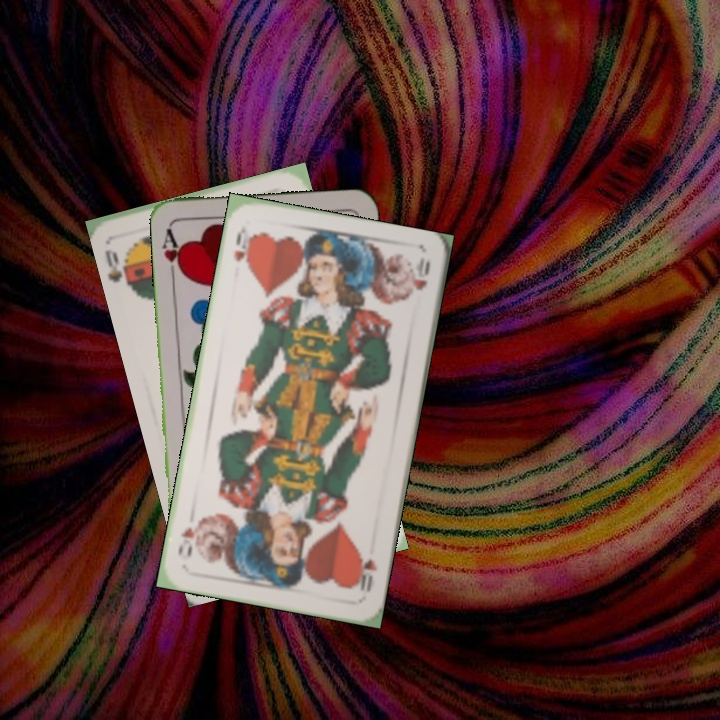HA: (158, 223, 187, 282)
HO: (230, 223, 256, 272), (352, 554, 380, 595)
SO: (101, 245, 139, 294)
